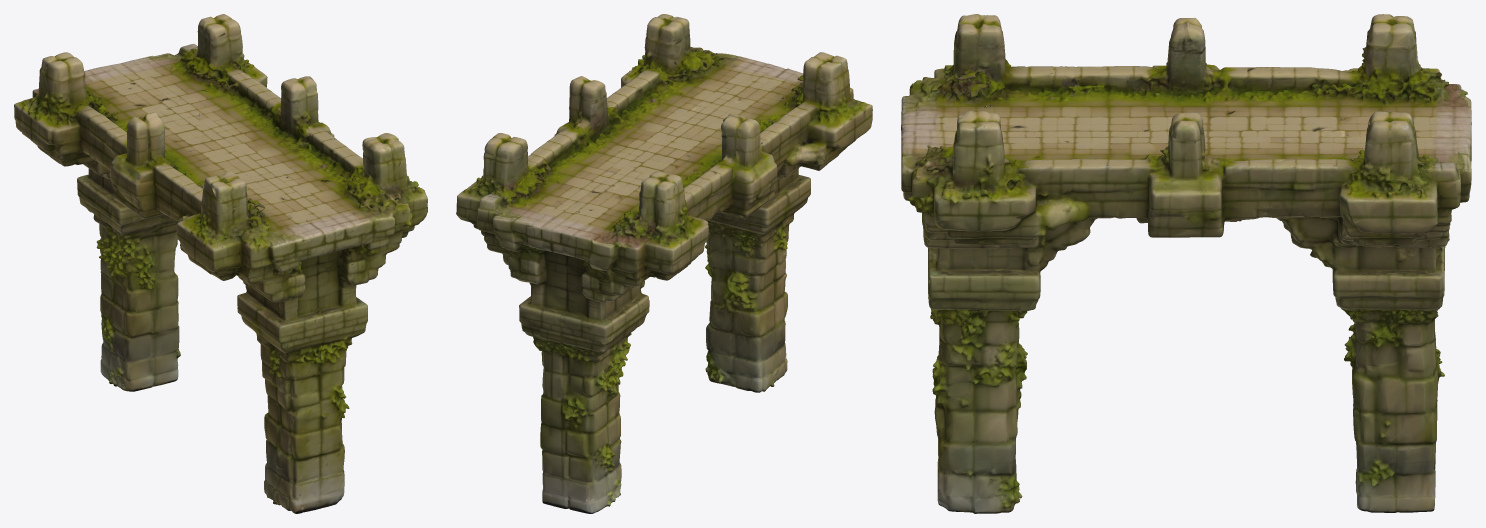
Rendered from bridge_sector_with_pylon_02.glb.
3 views of the same model, side by side, from view 1: azimuth 30°, elevation 25°; view 2: azimuth 150°, elevation 25°; view 3: azimuth 270°, elevation 25° (orthographic). The views are drawn at different scales.
Visible parts, largest first — view 1: Mesh_0.003; view 2: Mesh_0.003; view 3: Mesh_0.003.
Part boxes in pixels (x1,y1,x2,y2): Mesh_0.003: [14, 14, 427, 513]; Mesh_0.003: [456, 14, 872, 513]; Mesh_0.003: [901, 14, 1471, 513].
Bounding box in the file's own units: 3.36 × 5 × 5.98.
Materials: 1 (1 with a texture image).
